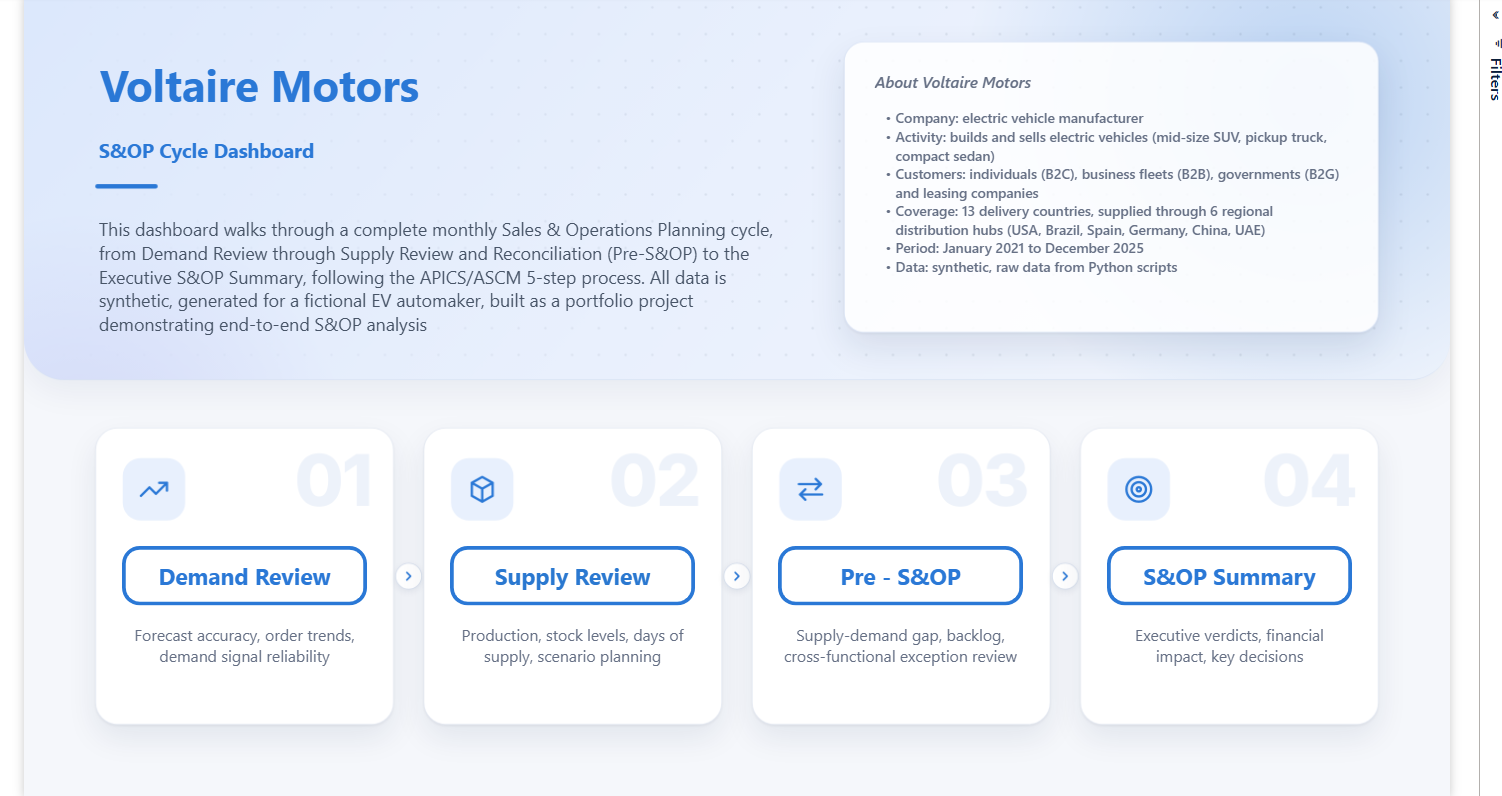

What the dashboard file says about the page in this screenshot:
{"tool":"powerbi","page":{"name":"Overview","canvas":[1920,1080],"ordinal":0},"visuals":[{"type":"actionButton","box":[132,740,330,80],"z":0},{"type":"actionButton","box":[574,740,330,80],"z":1000},{"type":"actionButton","box":[1016,740,330,80],"z":2000},{"type":"actionButton","box":[1458,740,330,80],"z":3000},{"type":"textbox","box":[96.3,75.9,900.2,108],"z":4000},{"type":"textbox","box":[96,184,354.5,71.5],"z":5000},{"type":"textbox","box":[96,292,920,170],"z":6000},{"type":"textbox","box":[132,840,330,108],"z":7000},{"type":"textbox","box":[574,840,330,108],"z":8000},{"type":"textbox","box":[1016,840,330,108],"z":9000},{"type":"textbox","box":[1458,840,330,108],"z":10000},{"type":"textbox","box":[1140,96,648,330],"z":11000}]}

Visuals, with their boxes on the page's 1920x1080 design canvas (x1, y1, x2, y2). These are canvas units, not pixel positions in the 1502x796 screenshot, which may show the page scaled, cropped or inside an application window:
actionButton: box(132, 740, 462, 820)
actionButton: box(574, 740, 904, 820)
actionButton: box(1016, 740, 1346, 820)
actionButton: box(1458, 740, 1788, 820)
textbox: box(96, 76, 996, 184)
textbox: box(96, 184, 450, 256)
textbox: box(96, 292, 1016, 462)
textbox: box(132, 840, 462, 948)
textbox: box(574, 840, 904, 948)
textbox: box(1016, 840, 1346, 948)
textbox: box(1458, 840, 1788, 948)
textbox: box(1140, 96, 1788, 426)
